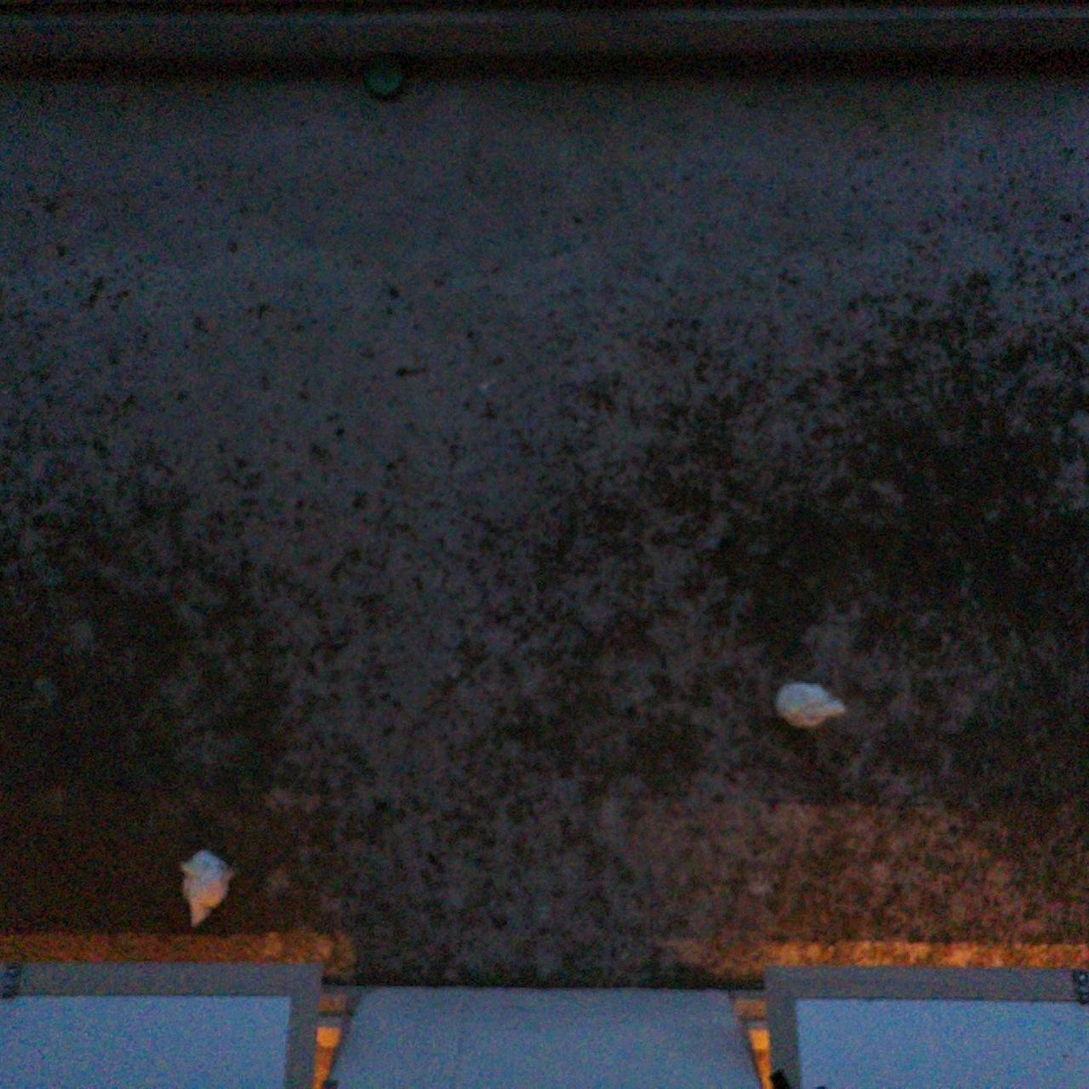chicken: (175, 842, 241, 937), (771, 674, 855, 739)
